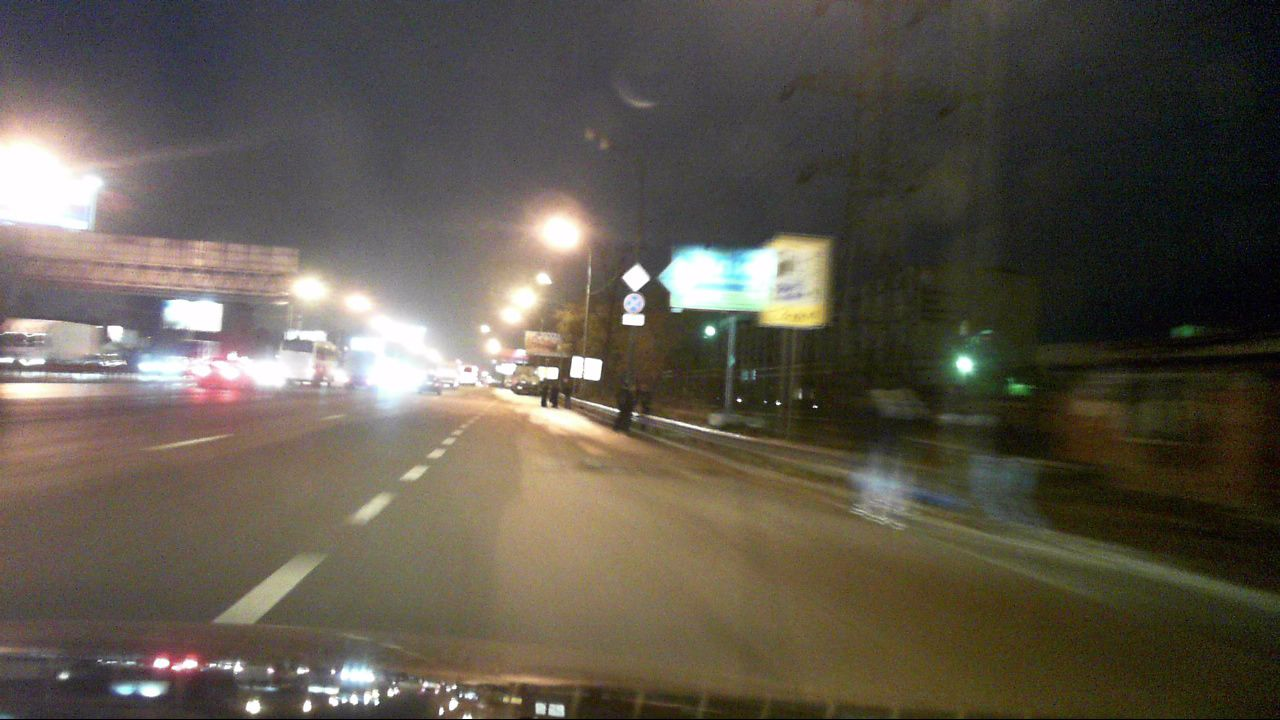No Parking: (622, 293, 646, 313)
